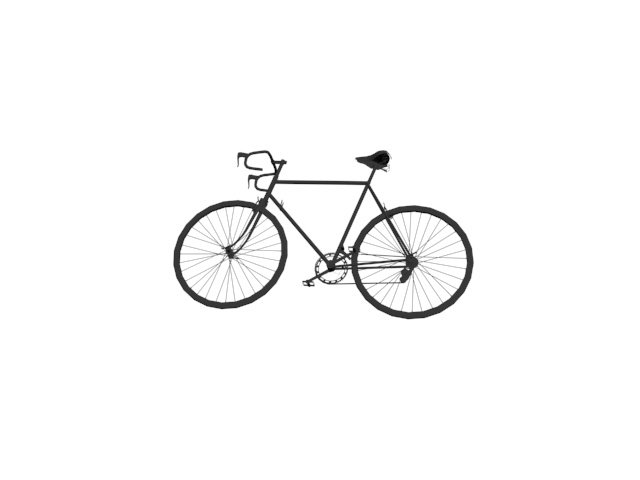bike: (169, 145, 480, 320)
